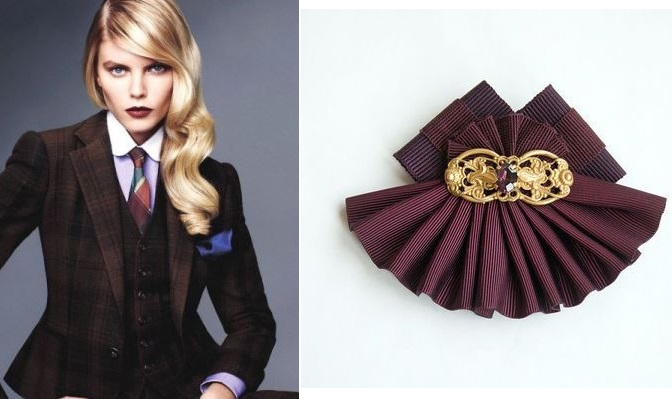tie: (118, 139, 166, 235)
